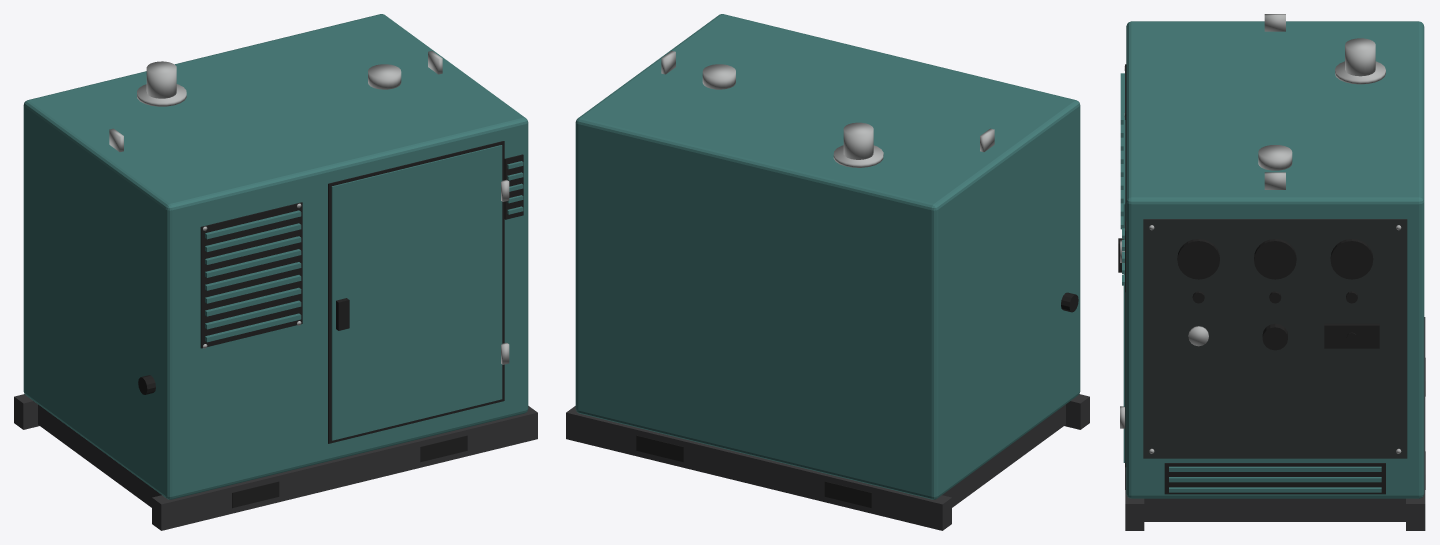
The model's file is generator.glb.
The picture shows the model from 3 angles, left to right: view 1: azimuth 30°, elevation 25°; view 2: azimuth 150°, elevation 25°; view 3: azimuth 270°, elevation 25°; orthographic projection.
Visible parts, largest first — view 1: GenCabinet, GenPaintDetails, GenBlackParts, GenSkid, GenSteelParts; view 2: GenCabinet, GenSkid, GenSteelParts, GenBlackParts; view 3: GenCabinet, GenPanelFace, GenBlackParts, GenSkid, GenPaintDetails, GenSteelParts.
Boxes of the visible parts, x1,y1,x2,y2 form: GenCabinet: [23, 14, 528, 499]; GenPaintDetails: [205, 145, 523, 440]; GenBlackParts: [138, 141, 523, 508]; GenSkid: [14, 394, 537, 530]; GenSteelParts: [109, 51, 509, 364]; GenCabinet: [575, 14, 1080, 499]; GenSkid: [566, 394, 1089, 530]; GenSteelParts: [661, 51, 994, 167]; GenBlackParts: [636, 292, 1078, 508]; GenCabinet: [1126, 21, 1424, 498]; GenPanelFace: [1143, 219, 1407, 458]; GenBlackParts: [1118, 64, 1425, 494]; GenSkid: [1125, 317, 1425, 530]; GenPaintDetails: [1120, 73, 1381, 492]; GenSteelParts: [1120, 14, 1401, 453].
Size of the model in its own units: 1.05 by 0.925 by 0.7225.
